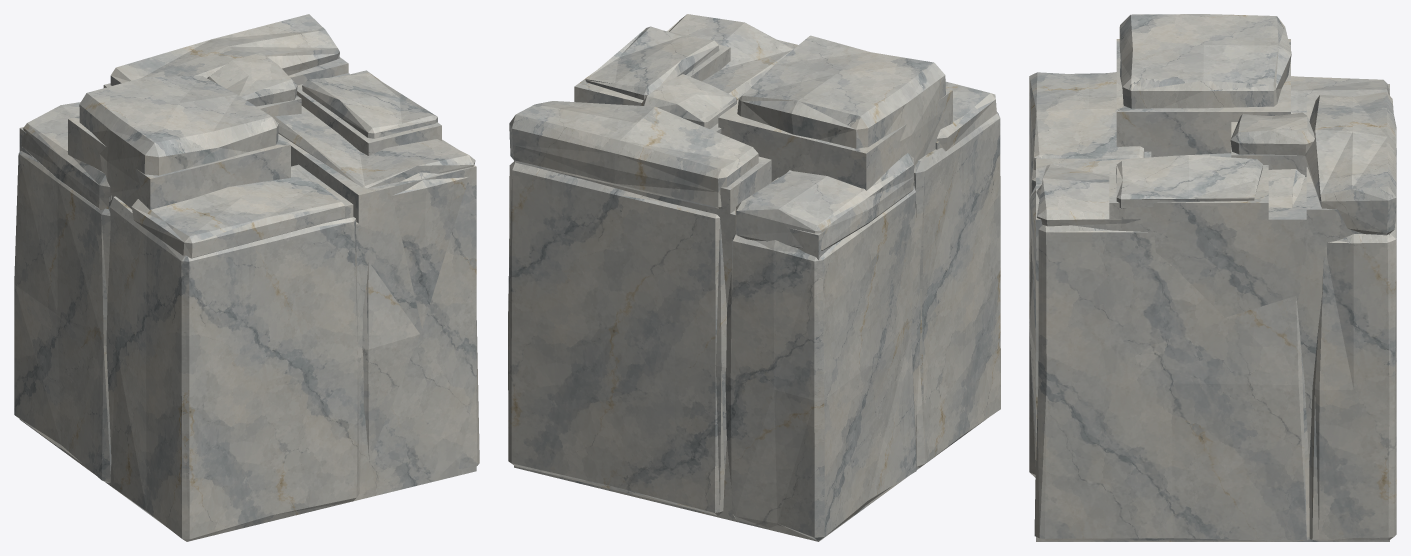
File: wall_stone_01.glb
3 renders of one model, left to right at view 1: azimuth 30°, elevation 25°; view 2: azimuth 150°, elevation 25°; view 3: azimuth 270°, elevation 25°, orthographic. The views are drawn at different scales.
Visible parts, largest first — view 1: WallStone01; view 2: WallStone01; view 3: WallStone01.
Boxes of the visible parts, x1=… form: WallStone01: x1=14, y1=14, x2=479, y2=541; WallStone01: x1=508, y1=14, x2=1000, y2=541; WallStone01: x1=1029, y1=14, x2=1396, y2=541.
Bounding box in the file's own units: 1 × 1.15 × 1.
1 material, 1 textured.
